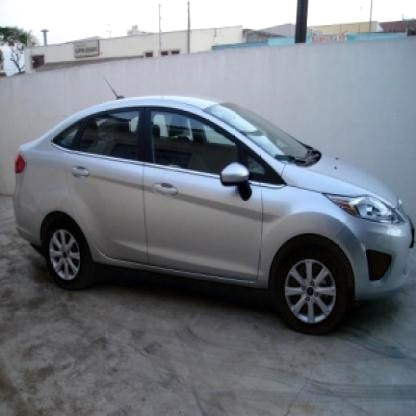Vehicle: (17, 94, 413, 336)
